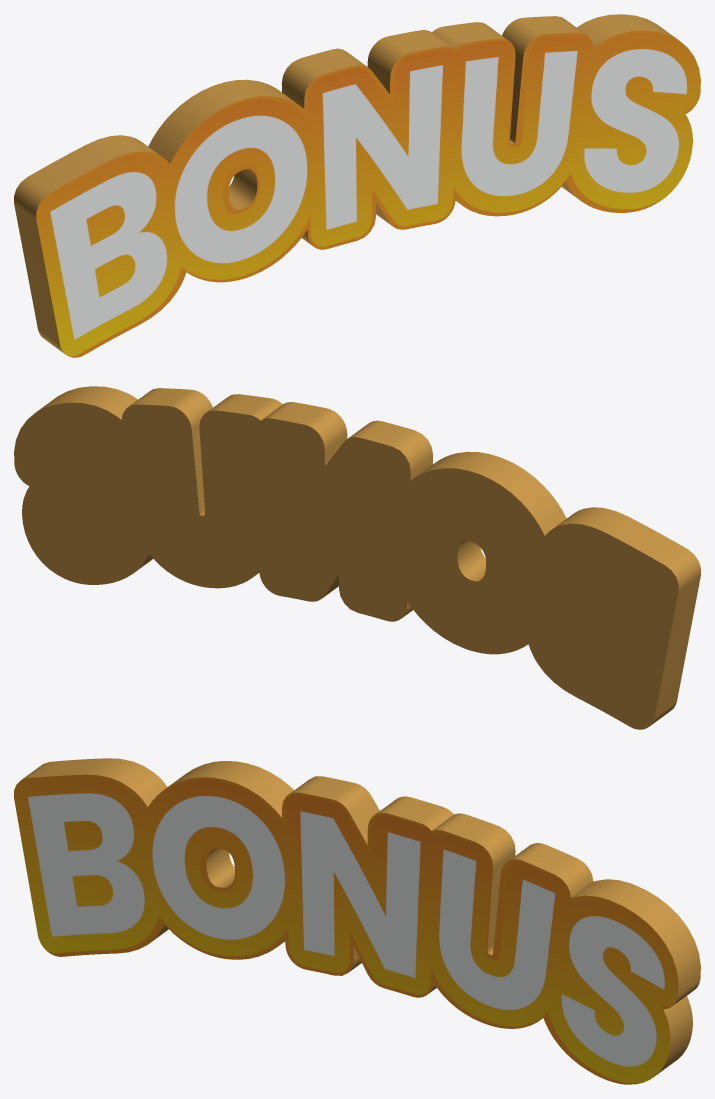
The model's file is Bonus.fbx.
3 renders of one model, top to bottom at view 1: azimuth 30°, elevation 25°; view 2: azimuth 150°, elevation 25°; view 3: azimuth 330°, elevation 25°, orthographic.
Visible parts, largest first — view 1: Bonus; view 2: Bonus; view 3: Bonus.
Boxes of the visible parts, box(x1,y1,x2,y2) form: Bonus: box(14, 14, 700, 357); Bonus: box(14, 386, 700, 729); Bonus: box(14, 758, 700, 1084).
Size of the model in its own units: 9529 by 3072 by 556.
Materials: 2 (1 with a texture image).
